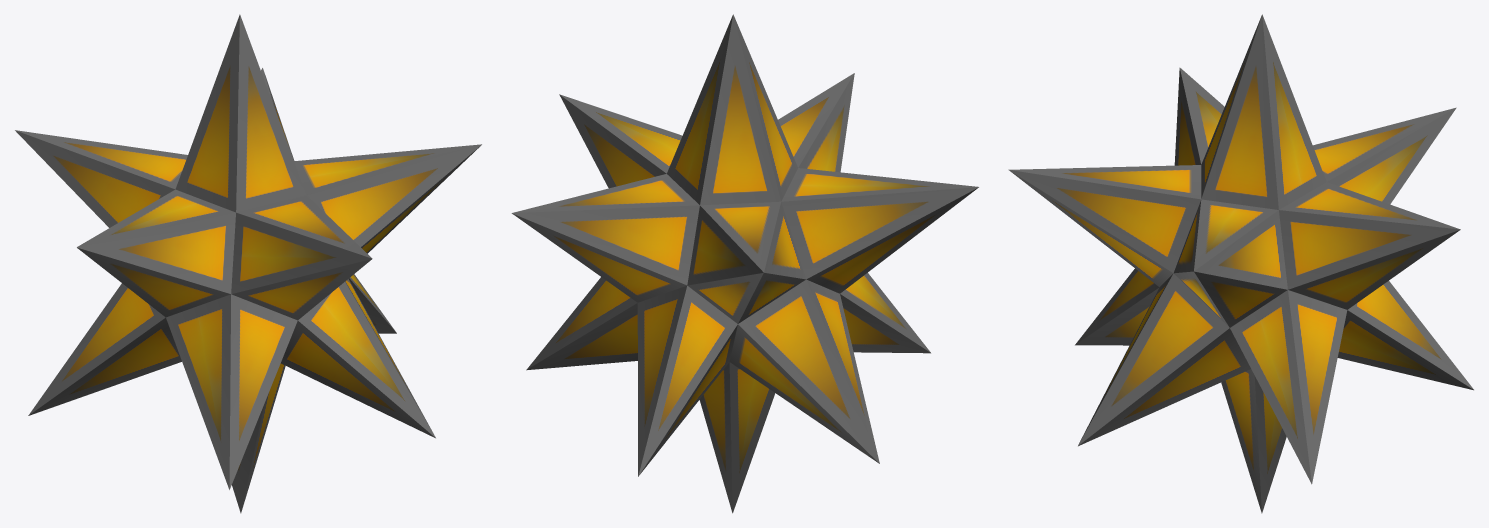
The model's file is Arches_Rm_Star.fbx.
3 renders of one model, left to right at view 1: azimuth 30°, elevation 25°; view 2: azimuth 150°, elevation 25°; view 3: azimuth 270°, elevation 25°, orthographic.
Visible parts, largest first — view 1: P_Arches_Rm_Star; view 2: P_Arches_Rm_Star; view 3: P_Arches_Rm_Star.
Boxes of the visible parts, x1=… form: P_Arches_Rm_Star: x1=15, y1=14, x2=481, y2=513; P_Arches_Rm_Star: x1=511, y1=14, x2=978, y2=513; P_Arches_Rm_Star: x1=1008, y1=14, x2=1473, y2=513.
Size of the model in its own units: 5.05 by 5.84 by 4.94.
